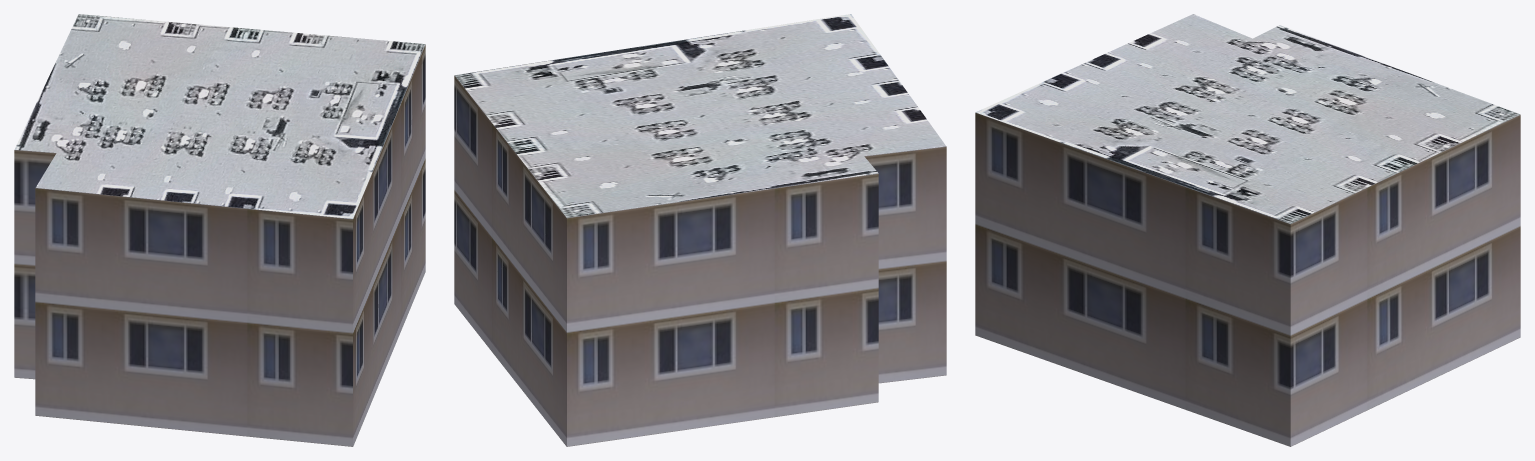
The model's file is ResTex__1737.fbx.
3 renders of one model, left to right at view 1: azimuth 30°, elevation 25°; view 2: azimuth 150°, elevation 25°; view 3: azimuth 270°, elevation 25°, orthographic. The views are drawn at different scales.
Visible parts, largest first — view 1: CityEngineMaterial_21_m, CityEngineMaterial_m; view 2: CityEngineMaterial_21_m, CityEngineMaterial_m; view 3: CityEngineMaterial_21_m, CityEngineMaterial_m.
Boxes of the visible parts, x1,y1,x2,y2 form: CityEngineMaterial_21_m: [14, 44, 425, 446]; CityEngineMaterial_m: [14, 14, 425, 218]; CityEngineMaterial_21_m: [454, 75, 946, 446]; CityEngineMaterial_m: [455, 14, 946, 217]; CityEngineMaterial_21_m: [975, 112, 1520, 446]; CityEngineMaterial_m: [975, 14, 1520, 223].
Size of the model in its own units: 12.12 by 6 by 13.3.
2 materials, 2 textured.
